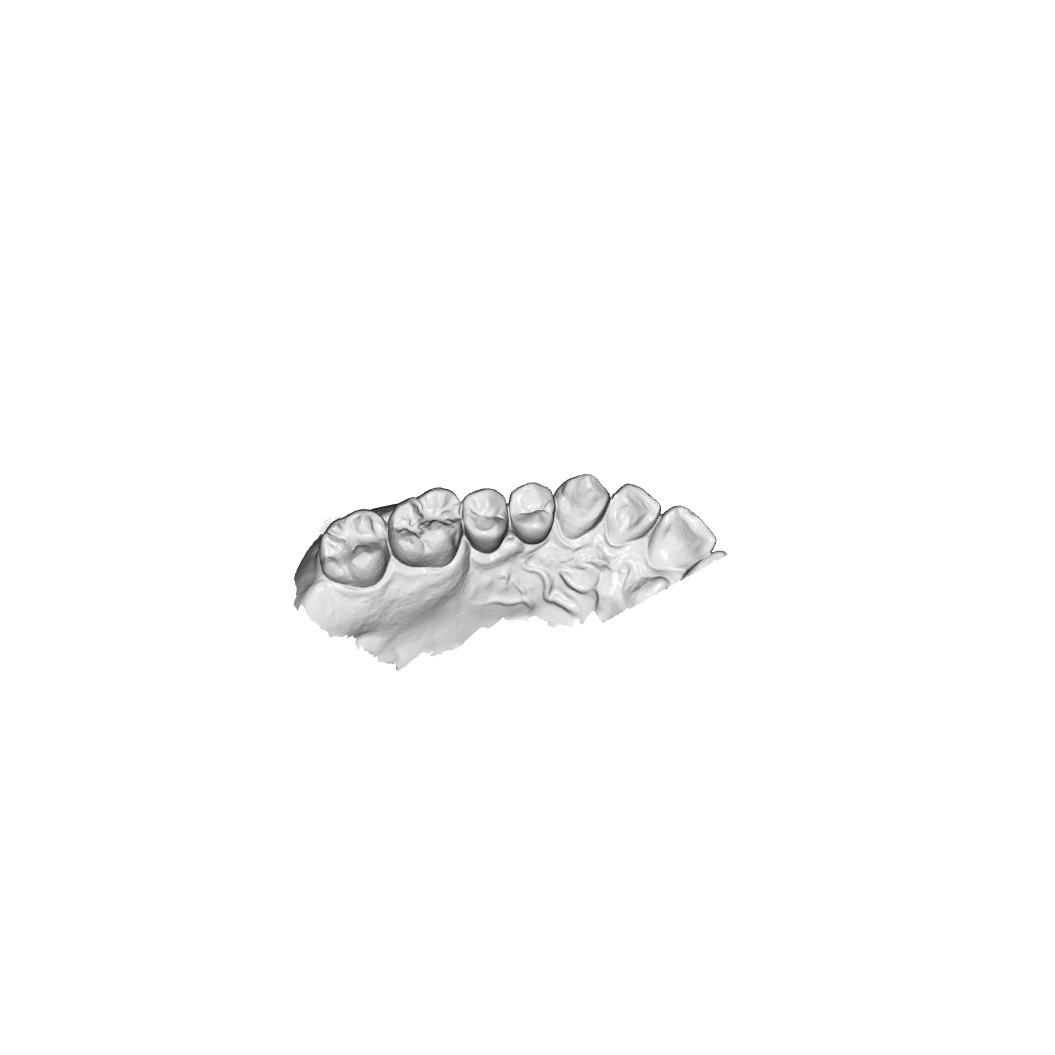canine: (555, 471, 611, 536)
incisor: (605, 485, 657, 548), (654, 510, 711, 567)
molar: (314, 504, 393, 586), (389, 488, 468, 567)
premolar: (466, 486, 509, 551), (511, 481, 554, 541)
